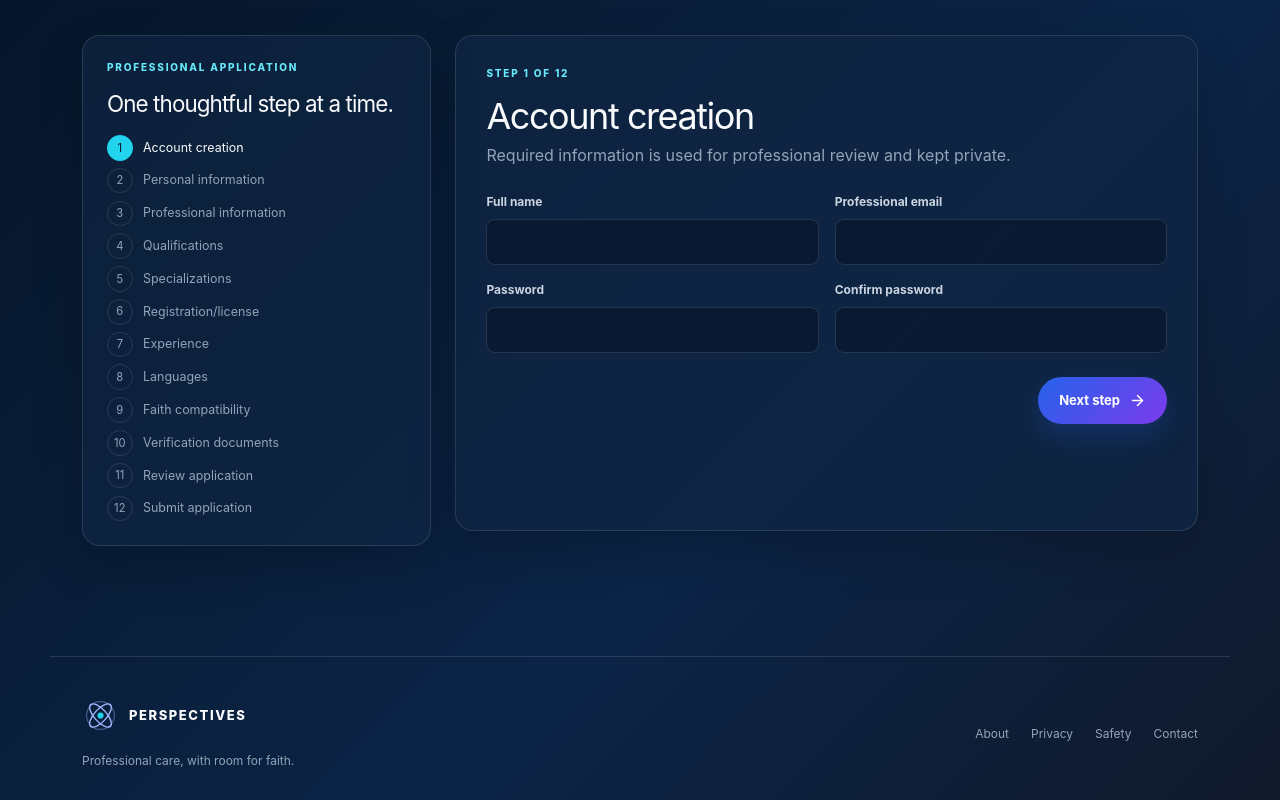
Test case: PERSPECTIVES landing page › provides a twelve-step psychologist application wizard
(page scrolled)
Expected: the text "Step 1 of 12" is shown, [486,66,569,78]
Expected: the list item "1 Account creation" is shown, [107,135,244,161]
Click the button "Next step". click: (1103, 401)
box: [1038,377,1167,424]
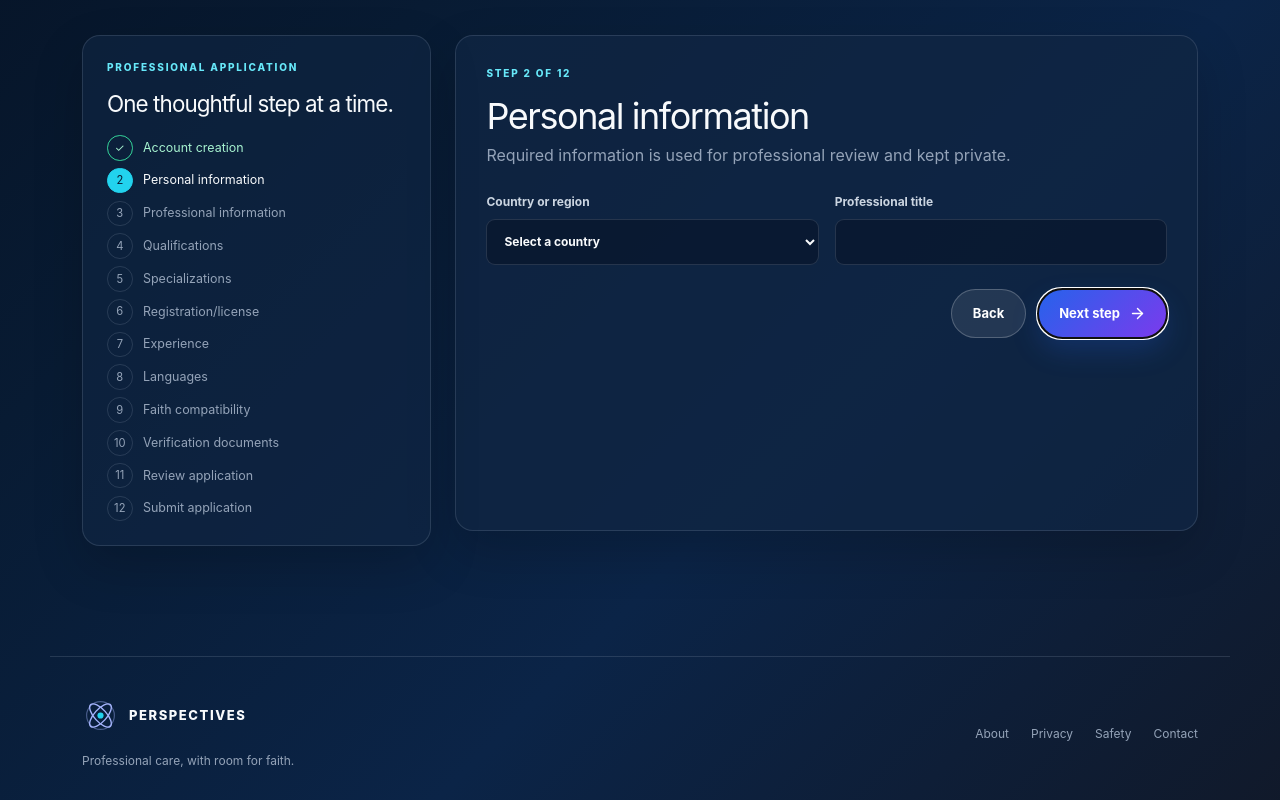
Expected: the list item "2 Personal information" is shown, [107,168,265,193]
Expected: the text "Step 2 of 12" is shown, [486,66,571,78]
